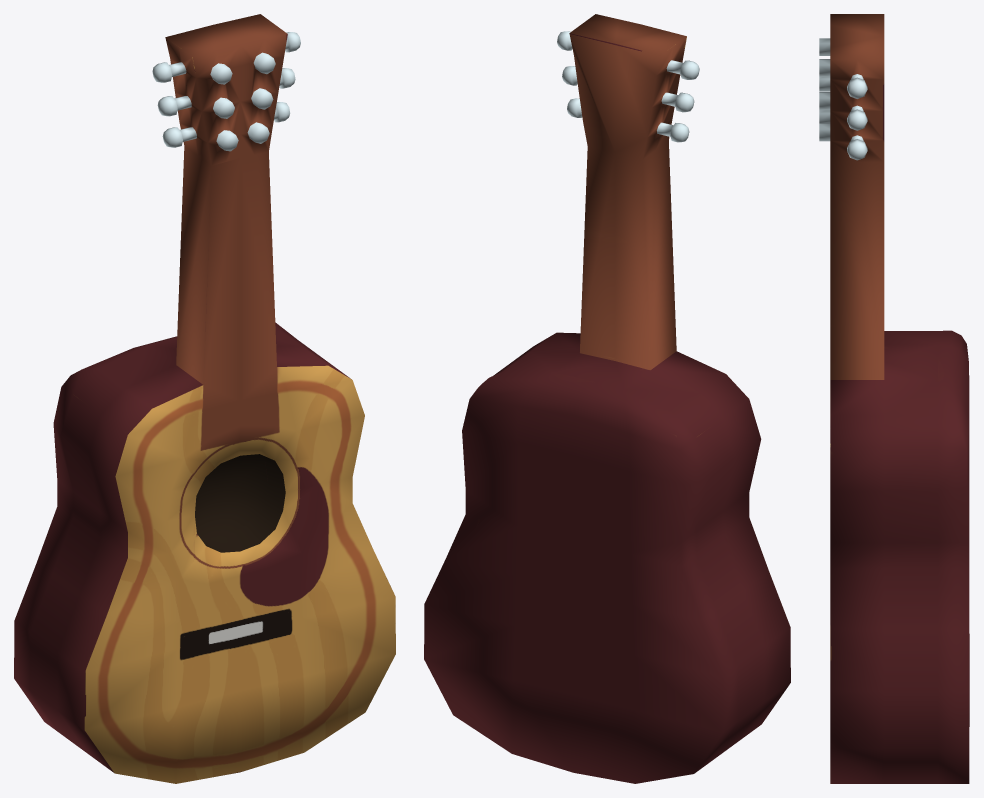
The model's file is guitarra.glb.
3 views of the same model, side by side, from view 1: azimuth 30°, elevation 25°; view 2: azimuth 150°, elevation 25°; view 3: azimuth 270°, elevation 25° (orthographic). The views are drawn at different scales.
Parts seen in each view (by area): view 1: guitarra; view 2: guitarra; view 3: guitarra.
Boxes of the visible parts, left/top/right/bottom form: guitarra: left=14, top=14, right=395, bottom=783; guitarra: left=424, top=14, right=790, bottom=783; guitarra: left=819, top=14, right=969, bottom=783.
Bounding box in the file's own units: 0.3583 × 0.8 × 0.1523.
3 materials, 2 textured.
